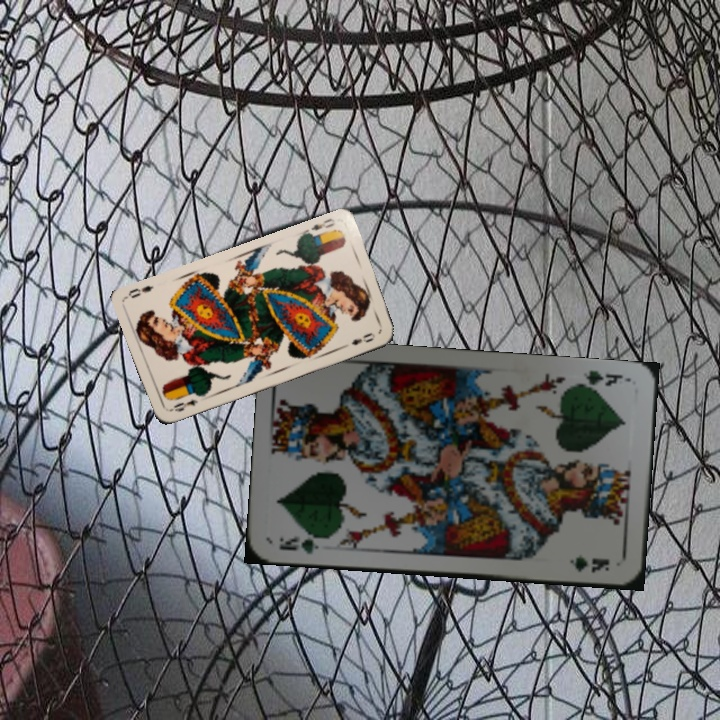EO: (301, 214, 338, 239), (165, 395, 200, 414)
GK: (572, 366, 625, 392), (275, 532, 330, 557)
